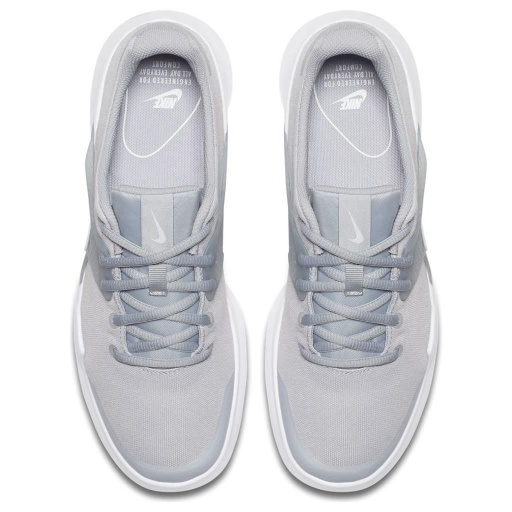nike: (344, 203, 364, 247), (143, 209, 166, 247)
